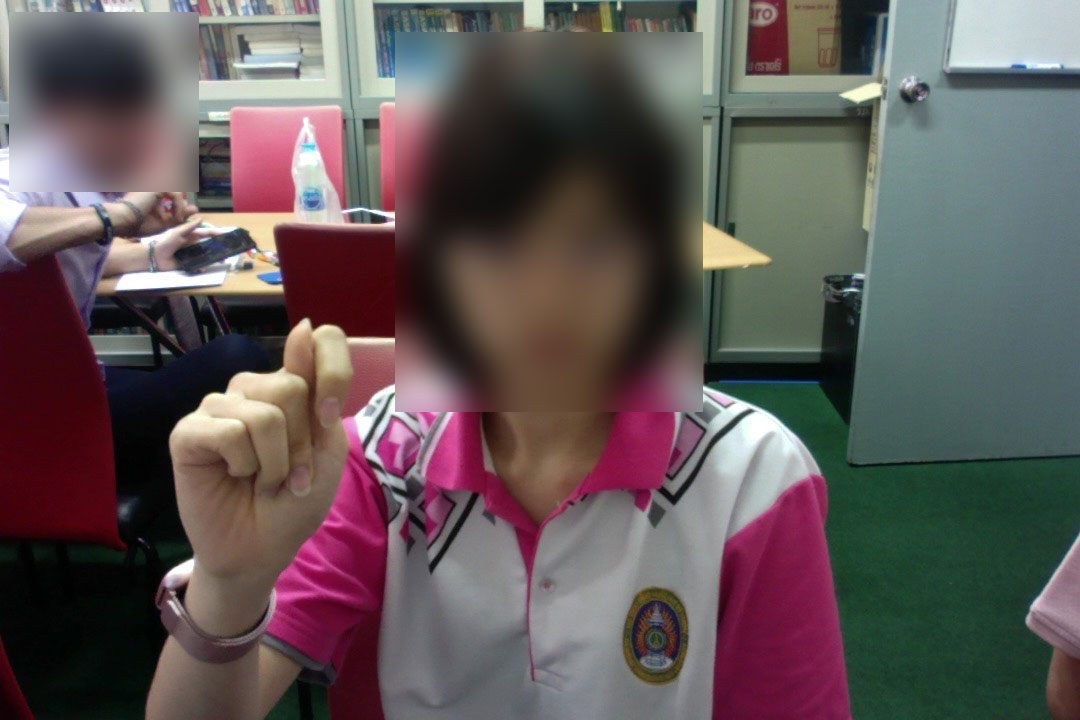tor: (163, 314, 355, 601)
